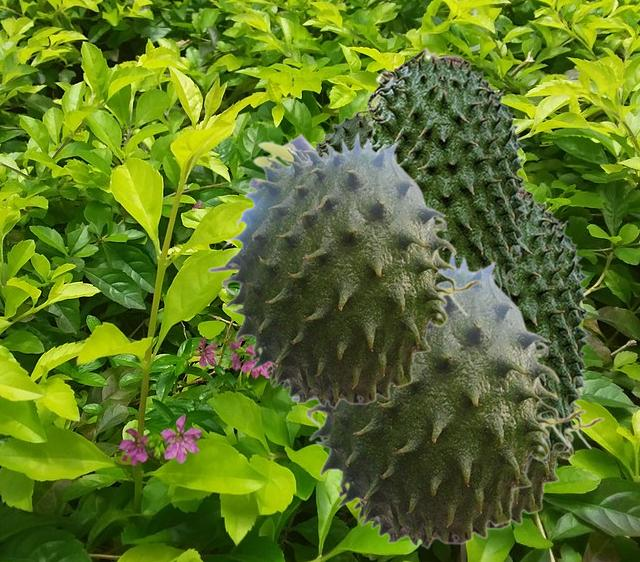guyabano: (290, 248, 586, 549), (207, 130, 481, 409), (362, 46, 529, 306), (509, 188, 592, 472), (488, 389, 604, 530), (312, 109, 371, 154)
